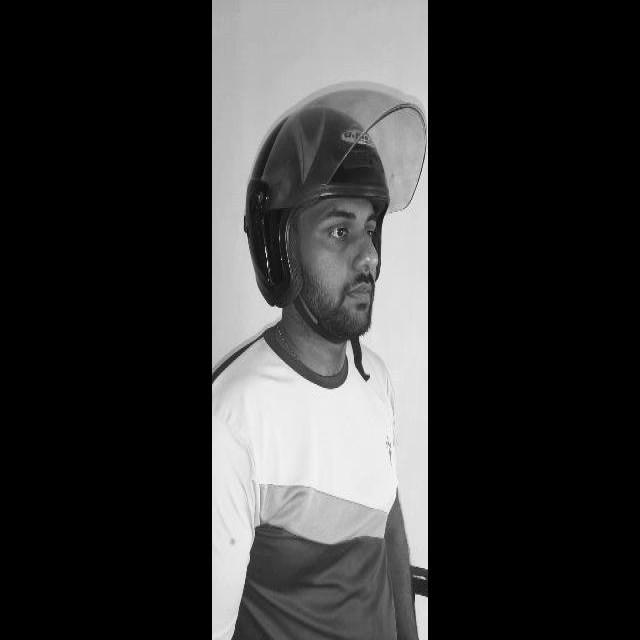5_casco: (243, 80, 427, 309)
